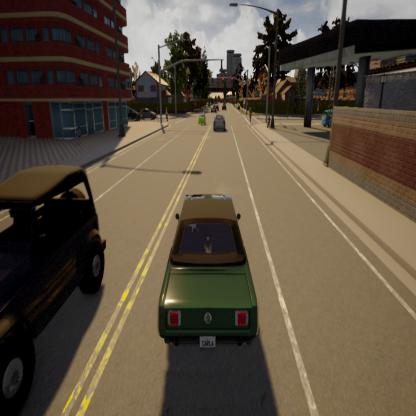Cars: (0, 162, 106, 416), (157, 191, 259, 360), (138, 104, 155, 121), (214, 112, 225, 132), (198, 112, 207, 126)
Pedestrian: (164, 104, 170, 128), (76, 120, 82, 143), (248, 104, 252, 126), (266, 115, 272, 126)
